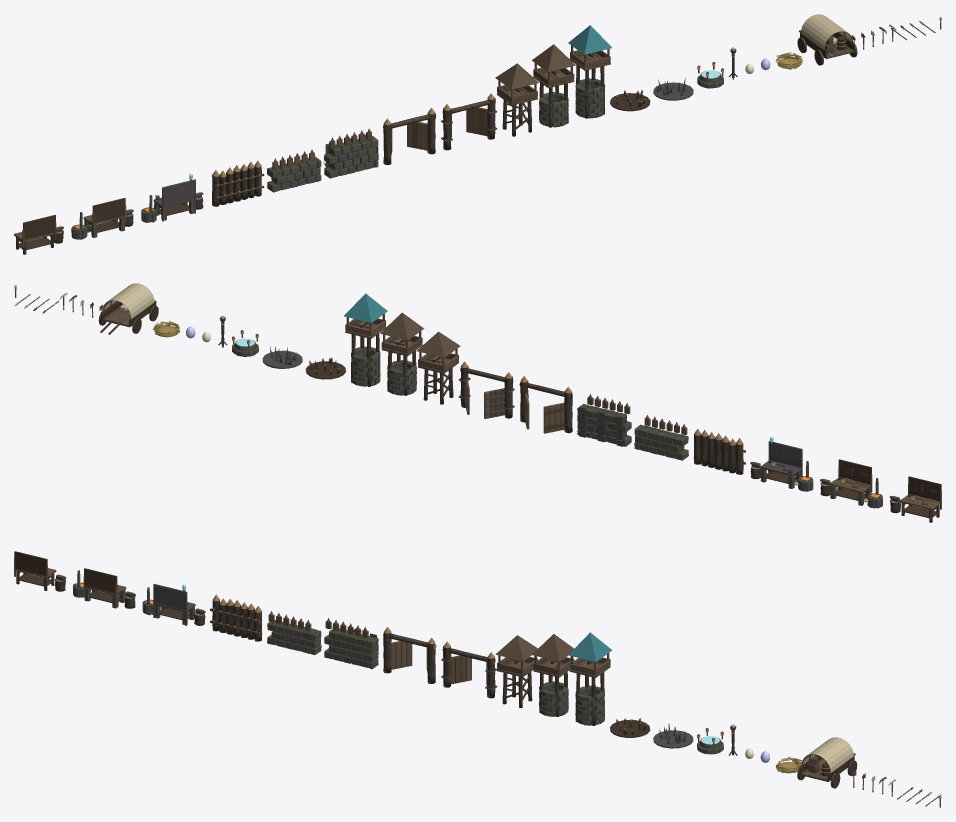
The model's file is BuildModels.fbx.
3 renders of one model, top to bottom at view 1: azimuth 30°, elevation 25°; view 2: azimuth 150°, elevation 25°; view 3: azimuth 330°, elevation 25°, orthographic.
Visible parts, largest first — view 1: Tower3, Tower2, Wall3, Wagon, Tower1, Wall1, Workbench3, Wall2, Workbench2, Gate2, Gate1, Workbench1 (+2 smaller); view 2: Tower3, Tower2, Wall3, Wagon, Workbench3, Tower1, Workbench2, Wall2, Wall1, Gate1, Gate2, Workbench1 (+2 smaller); view 3: Tower3, Tower2, Wall3, Wagon, Tower1, Wall1, Workbench3, Wall2, Workbench2, Gate1, Gate2, Workbench1 (+2 smaller).
Boxes of the visible parts, x1,y1,x2,y2 form: Tower3: (568,25,611,118); Tower2: (532,44,575,127); Wall3: (323,128,378,178); Wagon: (797,14,857,65); Tower1: (495,63,539,136); Wall1: (212,160,264,206); Workbench3: (141,173,203,222); Wall2: (267,149,321,192); Workbench2: (71,198,133,239); Gate2: (441,93,497,150); Gate1: (383,108,436,164); Workbench1: (14,215,63,254); Tower3: (344,293,387,386); Tower2: (380,312,424,395); Wall3: (576,394,631,446); Wagon: (98,283,158,334); Workbench3: (750,436,813,491); Tower1: (416,331,460,404); Workbench2: (820,459,882,508); Wall2: (634,415,688,460); Wall1: (693,429,745,474); Gate1: (519,376,572,433); Gate2: (458,361,514,418); Workbench1: (889,476,941,522); Tower3: (568,632,612,725); Tower2: (532,634,574,716); Wall3: (324,618,379,669); Wagon: (797,737,857,788); Tower1: (495,635,537,707); Wall1: (210,594,262,641); Workbench3: (142,583,205,625); Wall2: (267,611,321,654); Workbench2: (73,568,135,608); Gate1: (383,627,436,683); Gate2: (441,641,497,698); Workbench1: (14,551,66,591).
Size of the model in its own units: 226 by 21.28 by 15.59.
29 materials, 29 textured.
